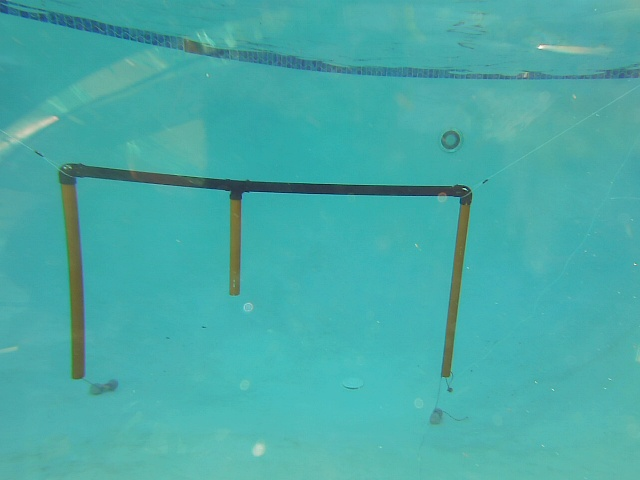Gate: (56, 178, 90, 381), (439, 198, 474, 381), (224, 195, 245, 297)
